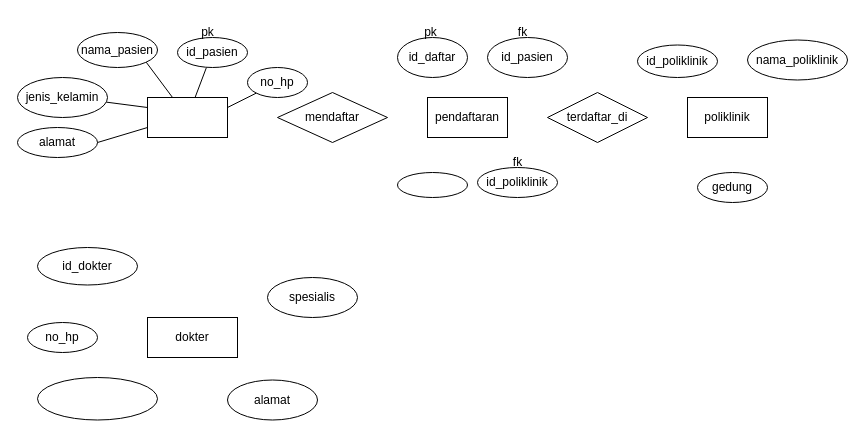
Image size: 865x437. Some labels were removed from this diagram. Here are the shapes that lost their labels. From the top down, the centre of each, then its label:
the point at 187,117: pasien
the point at 432,185: tgl_daftar
the point at 97,398: nama_dokter
